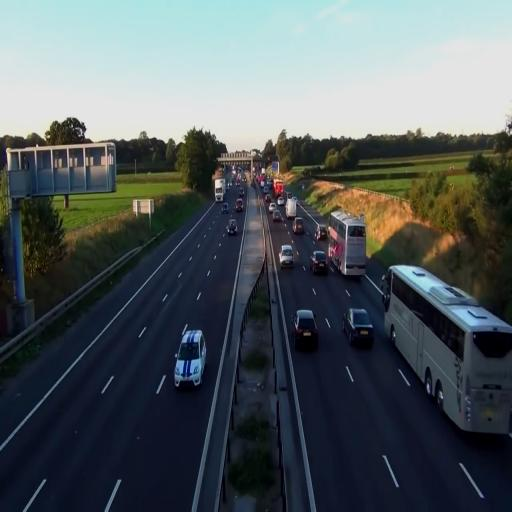vehicle: (382, 263, 512, 439), (326, 210, 368, 278), (327, 209, 367, 277), (174, 327, 208, 391), (174, 326, 208, 390), (343, 307, 375, 349), (292, 308, 319, 350), (310, 248, 328, 276), (279, 244, 294, 267), (226, 219, 238, 235)
